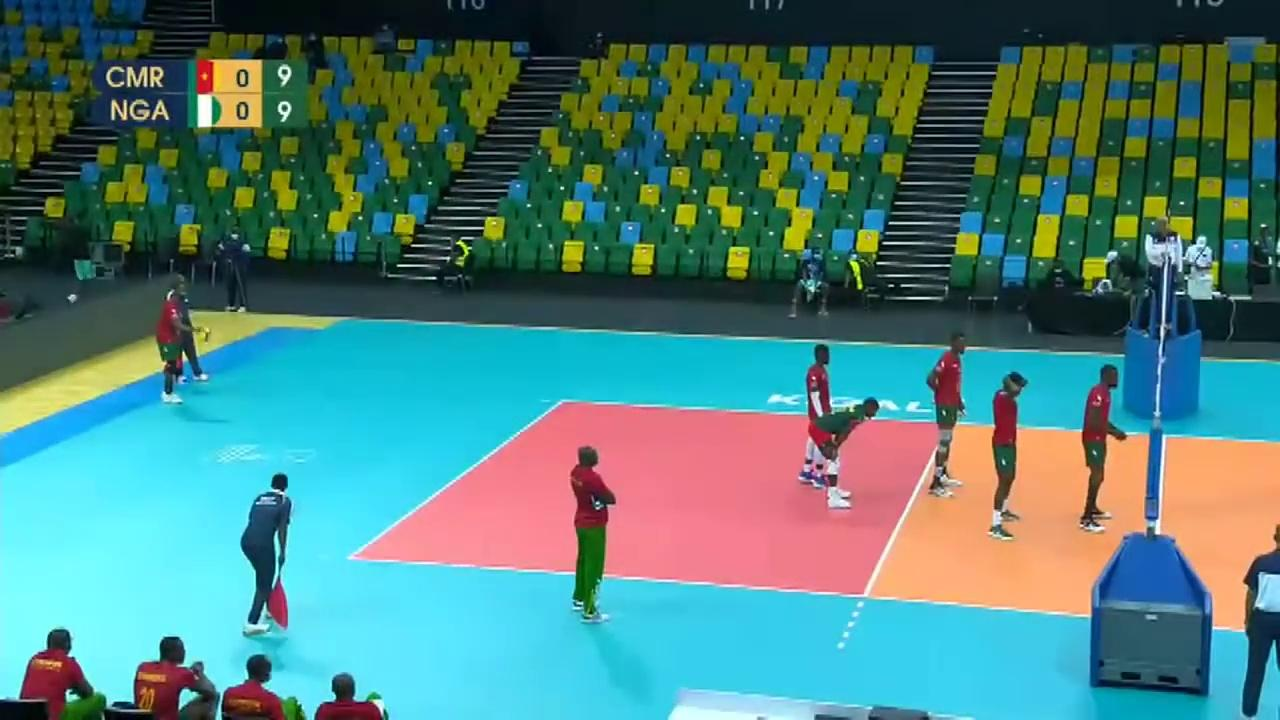player: (802, 395, 882, 508), (1078, 368, 1128, 528), (923, 337, 968, 496), (983, 372, 1025, 533), (797, 339, 835, 493), (154, 288, 185, 399)
refree: (239, 476, 295, 631), (164, 276, 221, 386), (1146, 212, 1187, 324)
